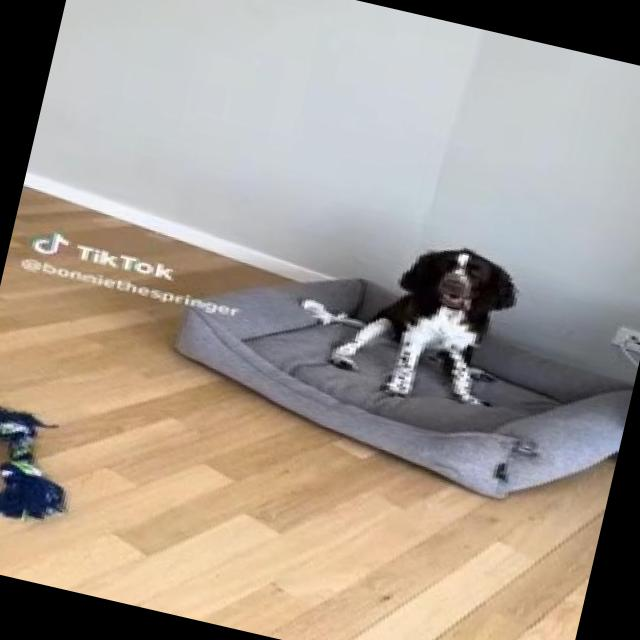dog: (301, 224, 555, 462)
